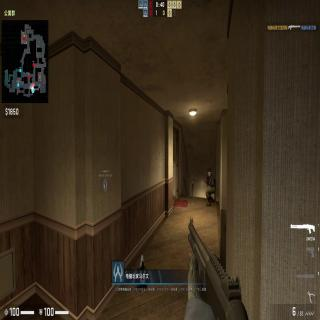T-Body: (205, 168, 216, 207)
T-Head: (208, 168, 212, 178)
